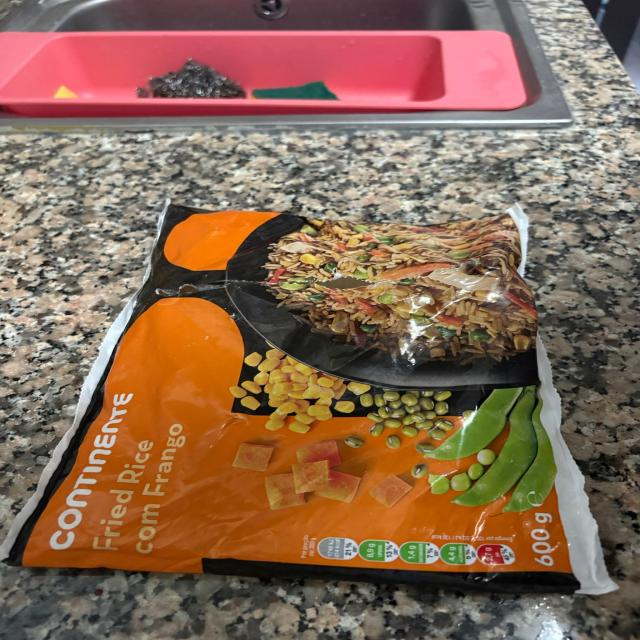damaged_package: (0, 195, 619, 598)
